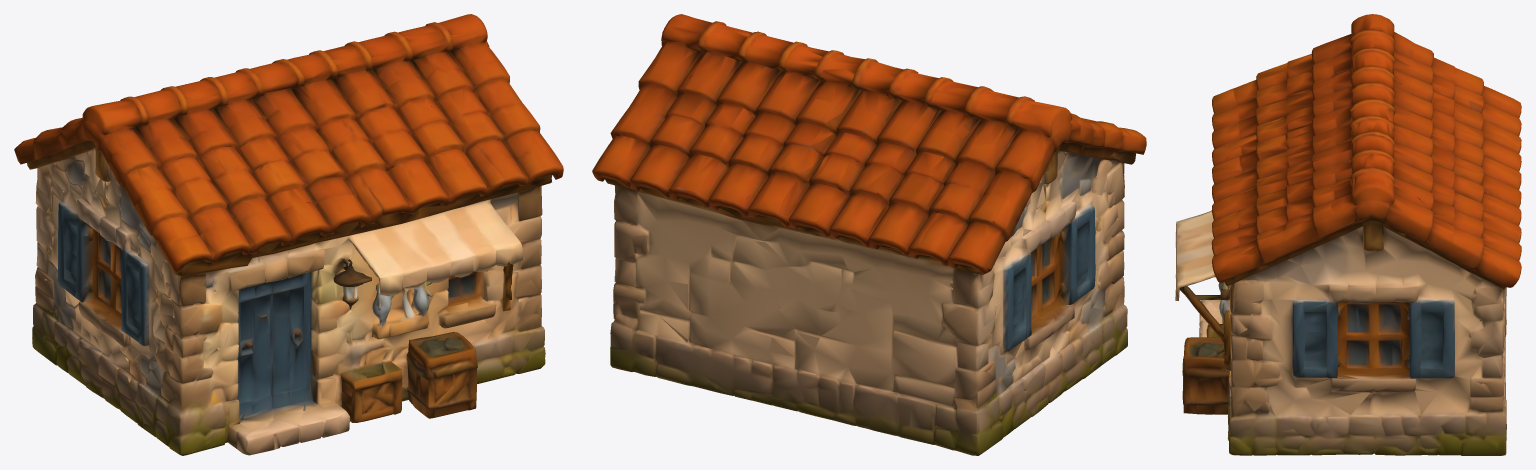
File: Piece10.fbx
3 renders of one model, left to right at view 1: azimuth 30°, elevation 25°; view 2: azimuth 150°, elevation 25°; view 3: azimuth 270°, elevation 25°, orthographic. The views are drawn at different scales.
Parts seen in each view (by area): view 1: Piece10; view 2: Piece10; view 3: Piece10.
Boxes of the visible parts, x1,y1,x2,y2 form: Piece10: (14, 14, 563, 455); Piece10: (592, 14, 1146, 455); Piece10: (1175, 14, 1521, 455).
Size of the model in its own units: 100 by 71.75 by 82.03.
Materials: 1 (1 with a texture image).
